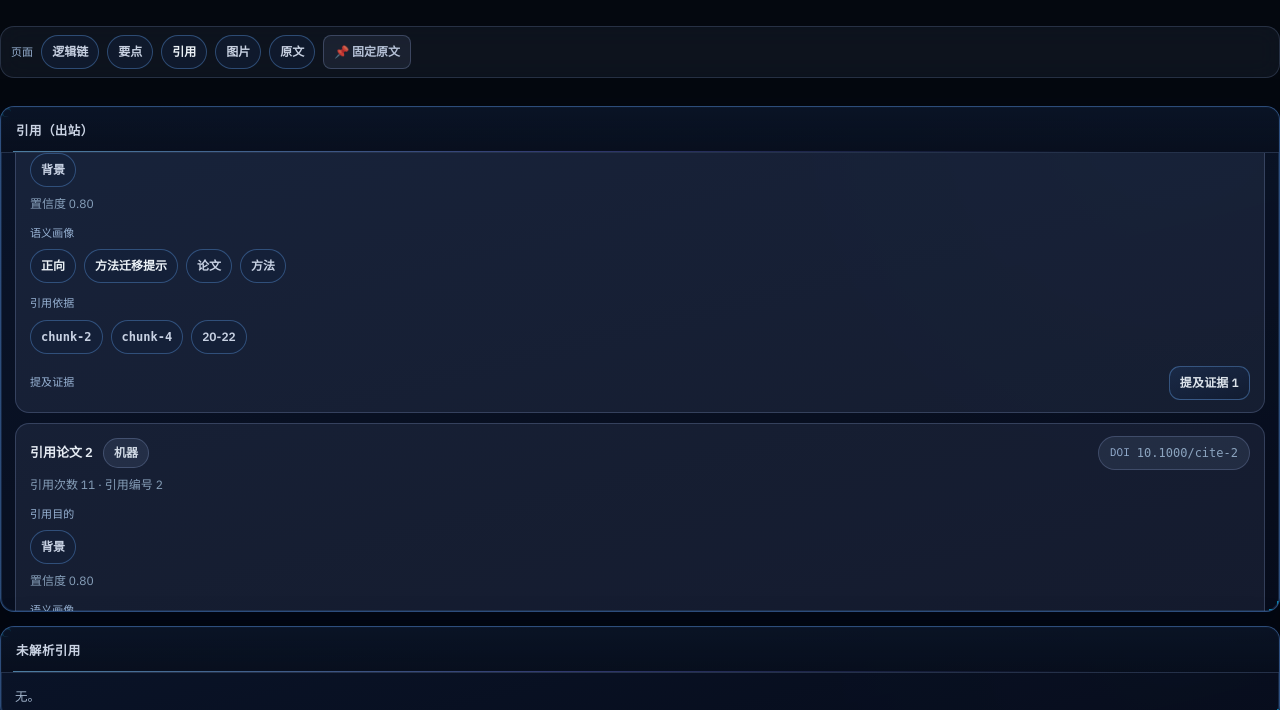
Test: PaperDetailPage graph workbench › renders citation semantic enrichment and keeps manual purpose controls collapsed by default
(page scrolled)
Check: the text "语义画像" below "引用目的" is shown, box x1=30 y1=225 x2=74 y2=239
Check: the text "方法迁移提示" is shown, box x1=84 y1=248 x2=178 y2=282
Click the button "提及证据 1" at (1209, 382), box x1=1169 y1=365 x2=1250 y2=399
(page scrolled)
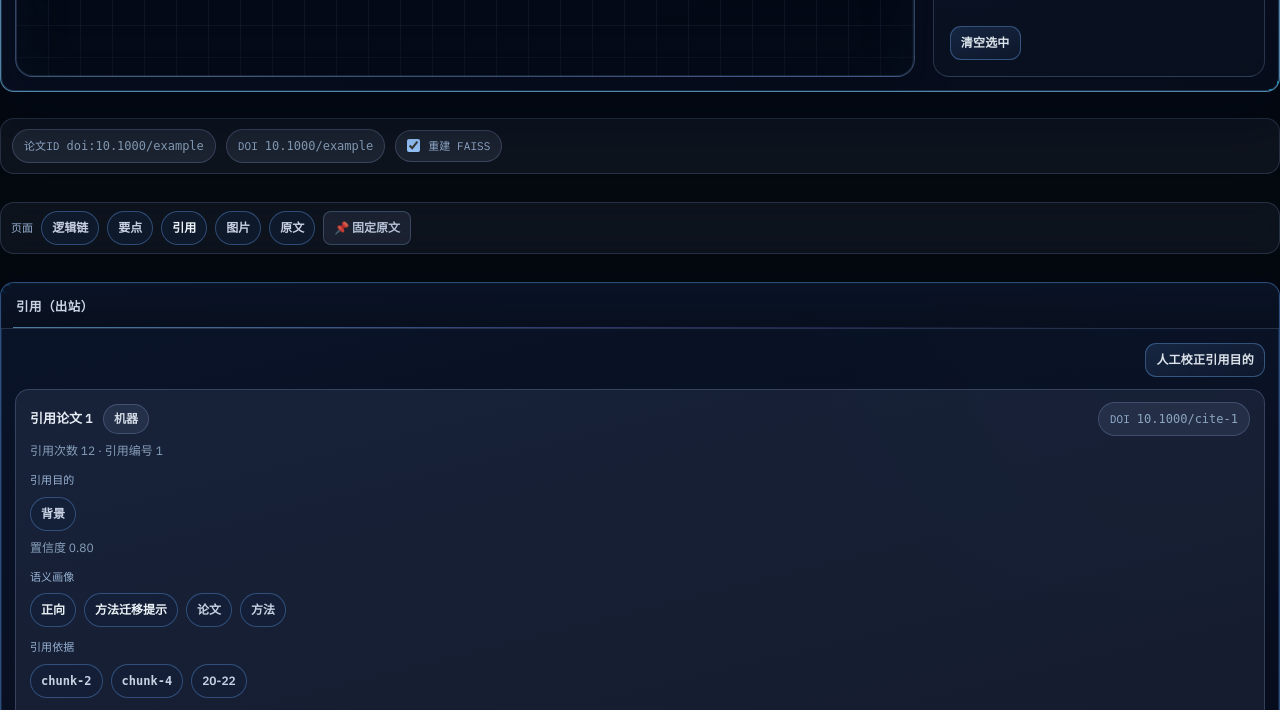
Click the button "人工校正引用目的" at (1205, 360), box x1=1145 y1=342 x2=1265 y2=376
(page scrolled)
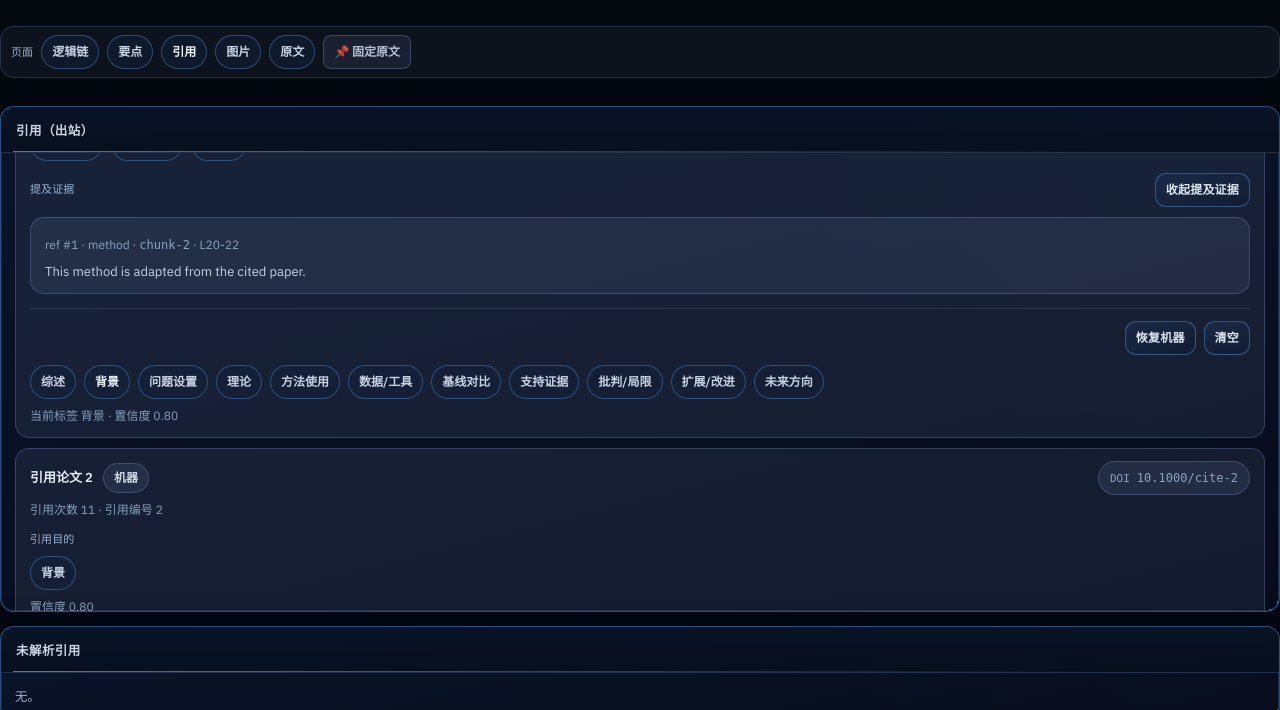
Check: the button "综述" is shown, box x1=30 y1=364 x2=76 y2=398
